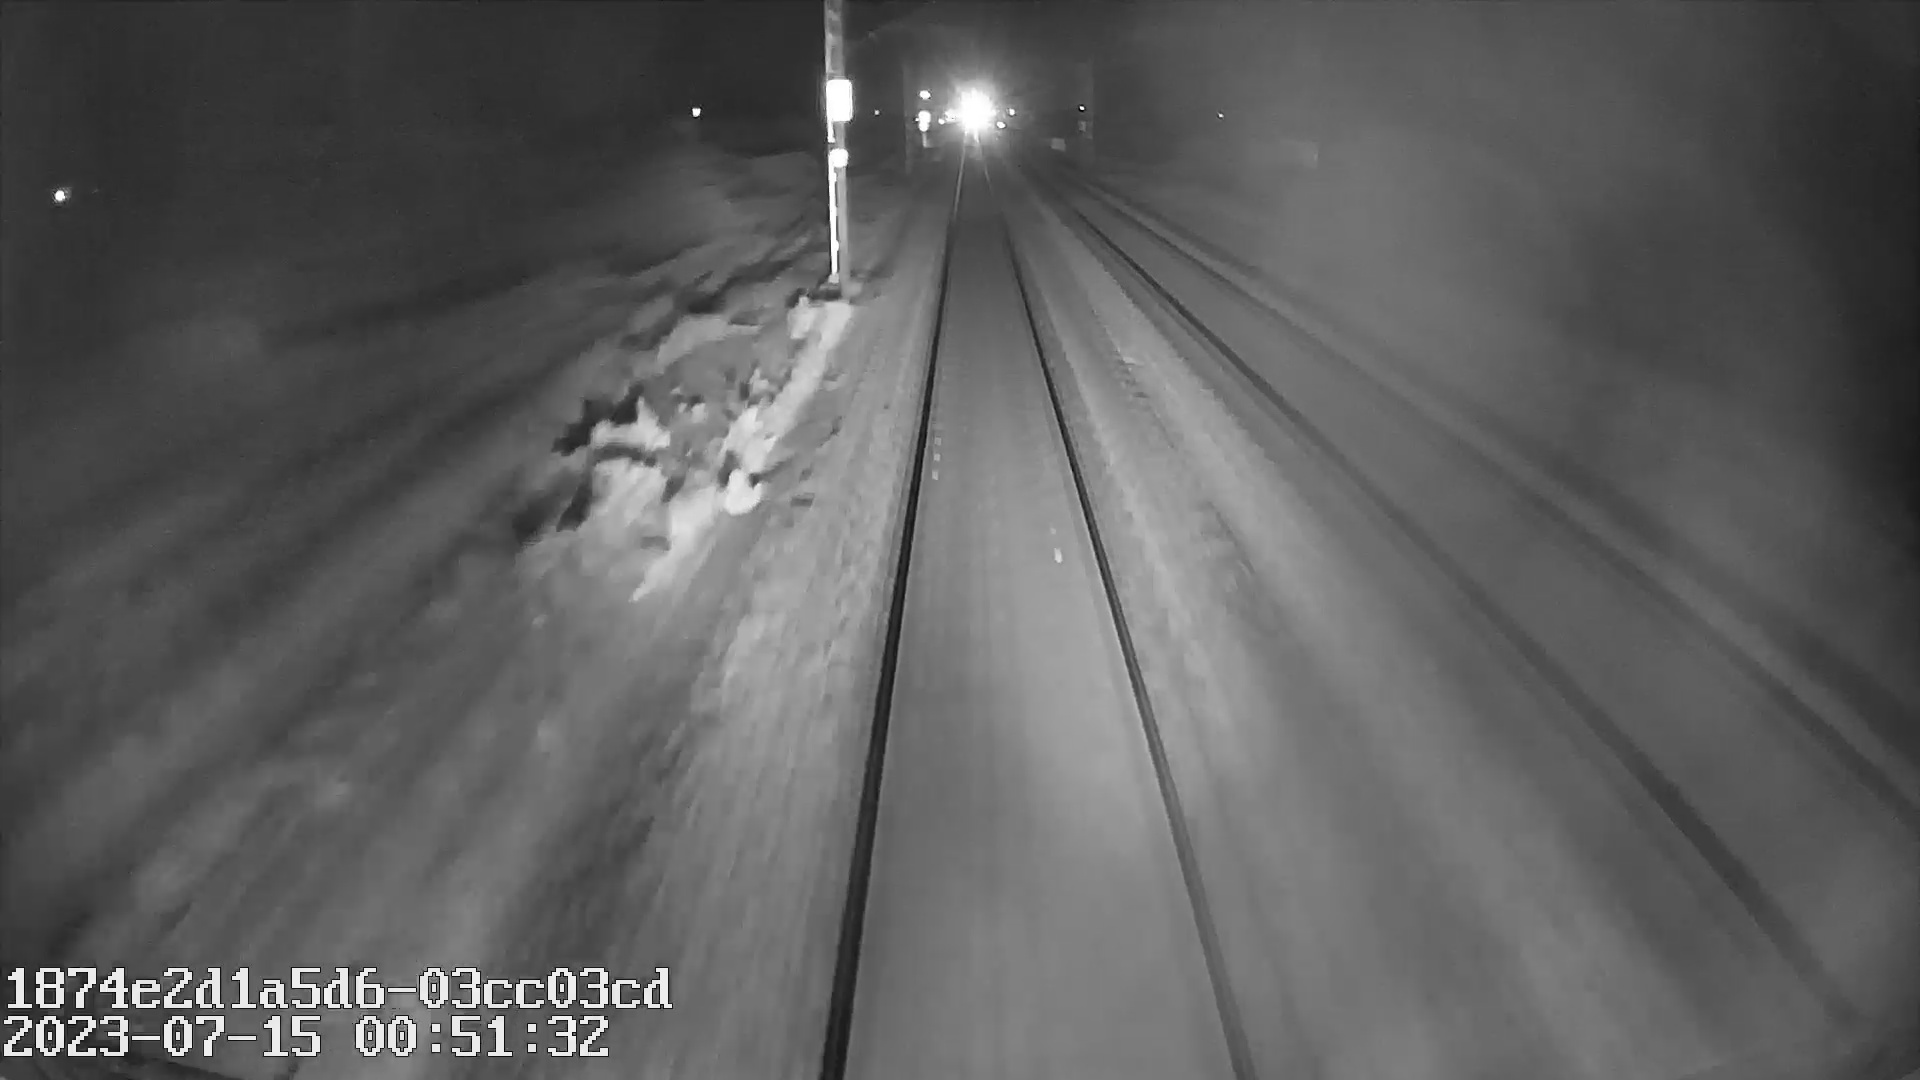track1: (833, 160, 1241, 1054)
track2: (1037, 164, 1911, 941)
